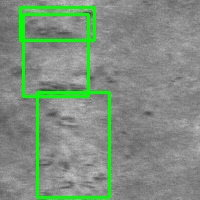rolled-in_scale: (37, 92, 109, 197), (23, 14, 88, 96), (20, 7, 94, 40)
